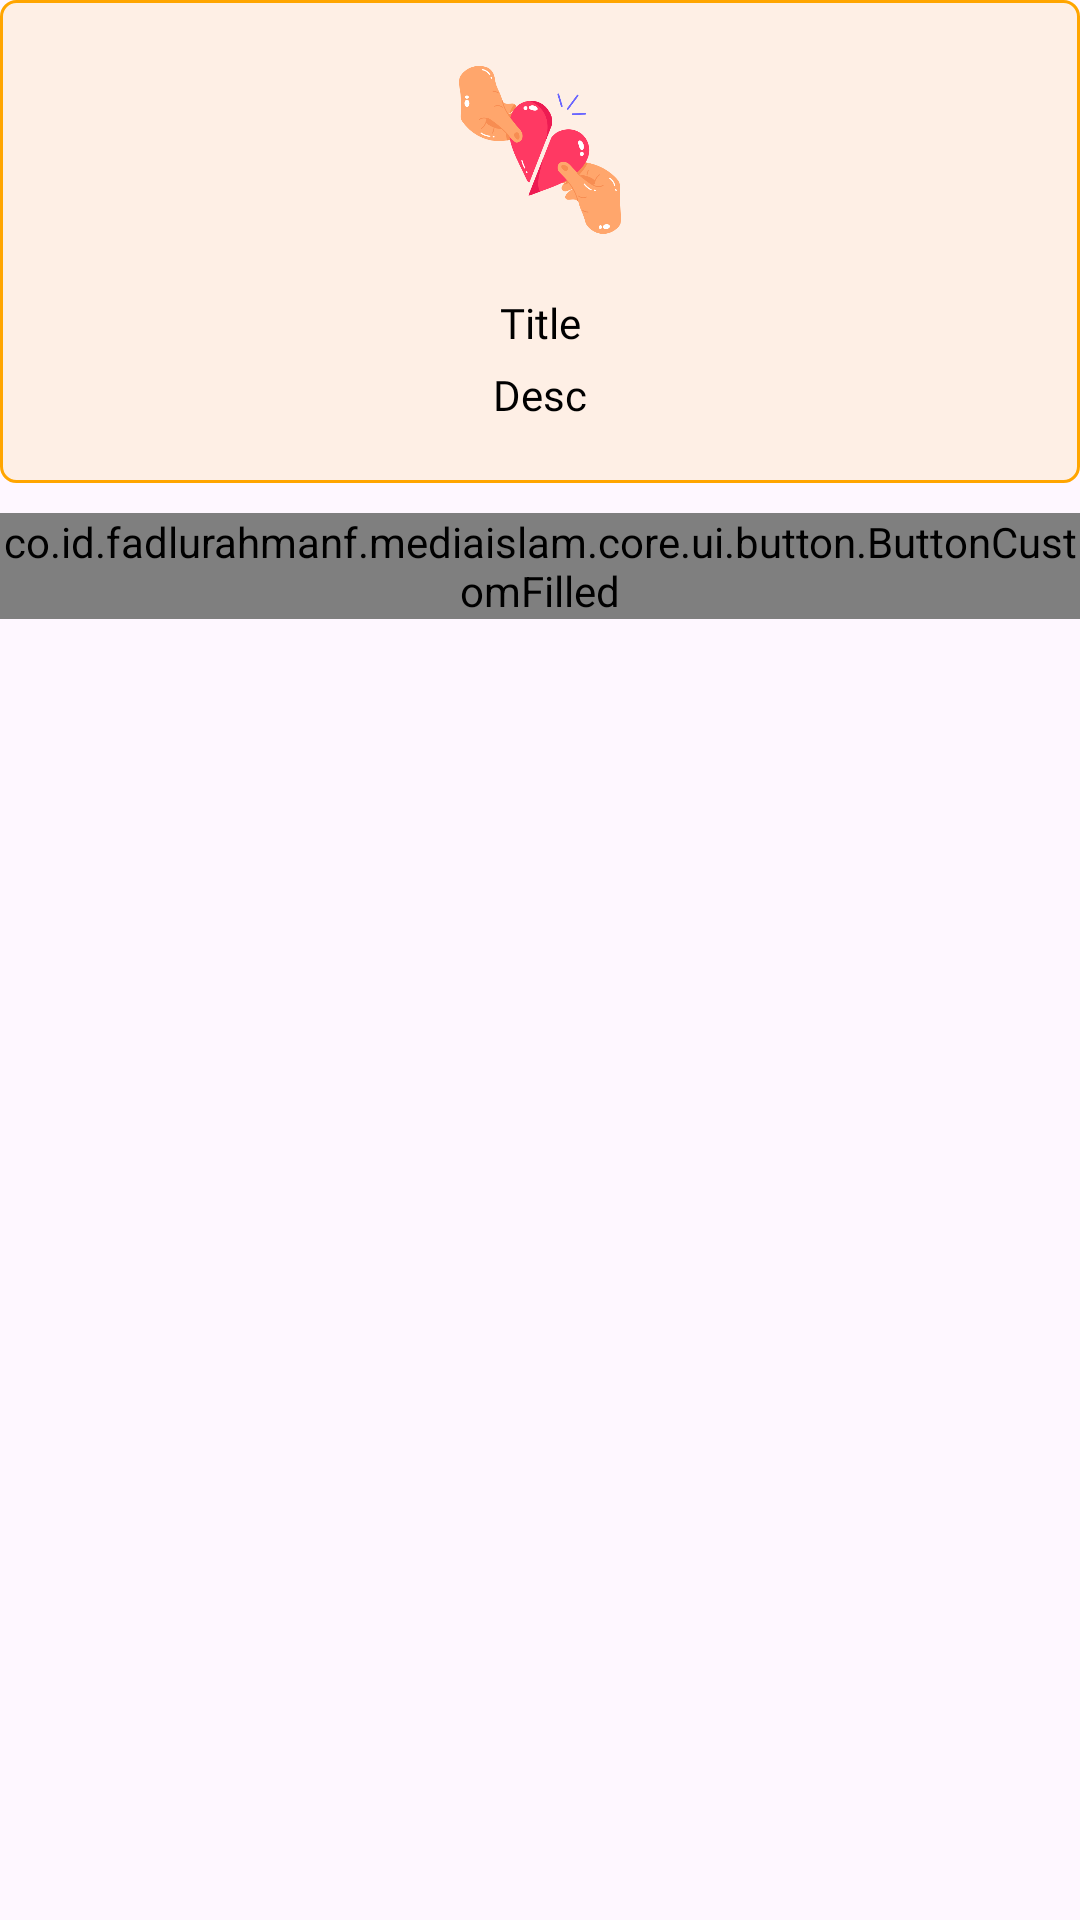

Icons on this 1080×1920 Android screen, each with the point to tap as (x,y):
il sad: (540,150)
